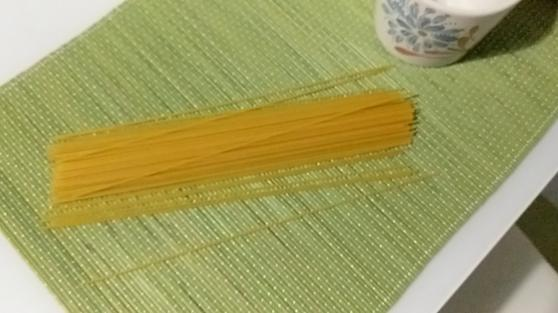spaghetti: (28, 89, 428, 229)
